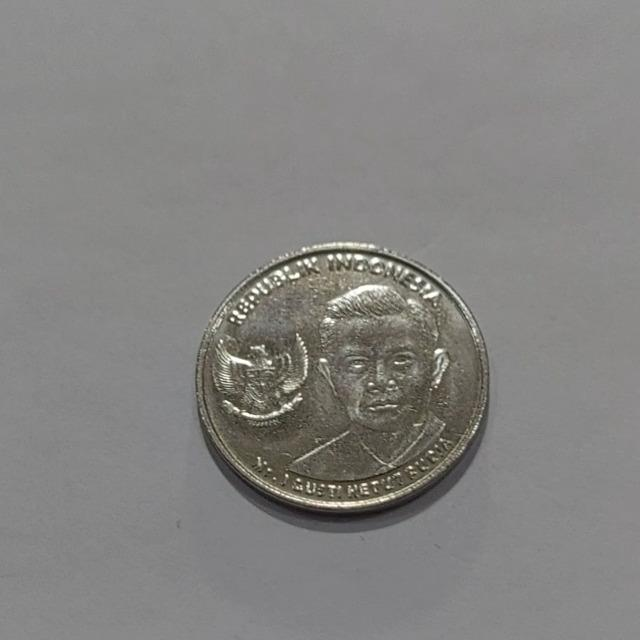Rp100: (194, 240, 490, 516)
